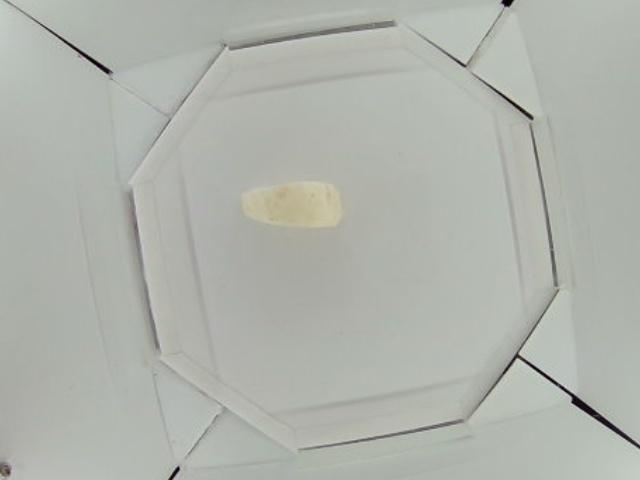Mooli: (239, 180, 342, 229)
